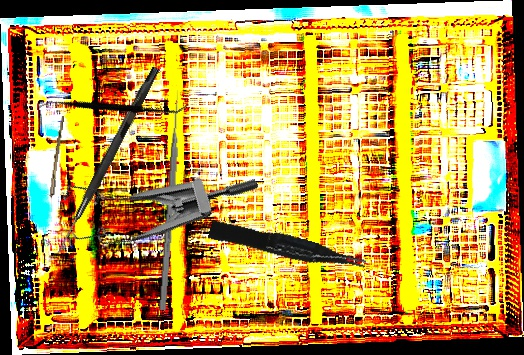Hook Surgical: (55, 64, 160, 257)
Pusher: (158, 89, 183, 311)
Spatula Surgical: (37, 41, 190, 171)
Speculum: (43, 104, 261, 284)
Surgical Spoon: (45, 115, 65, 226)
Tissue Forceps: (207, 213, 368, 282)
